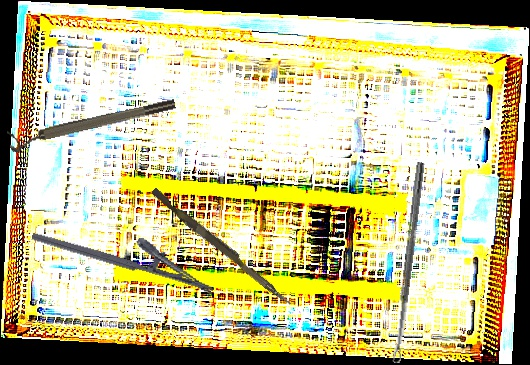Fixation Ring: (6, 96, 179, 154)
Needle Holder: (30, 206, 223, 296)
Pusher: (148, 187, 296, 307)
Surgical Spoon: (391, 161, 425, 364)
